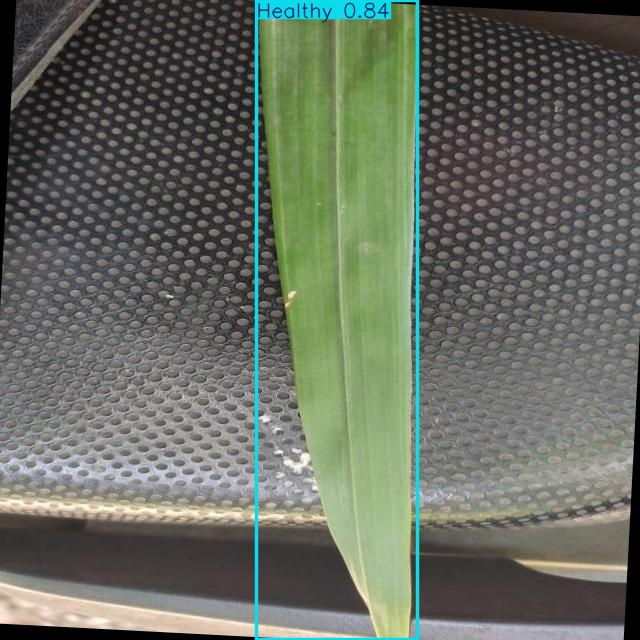Healthy: (257, 1, 417, 639)
